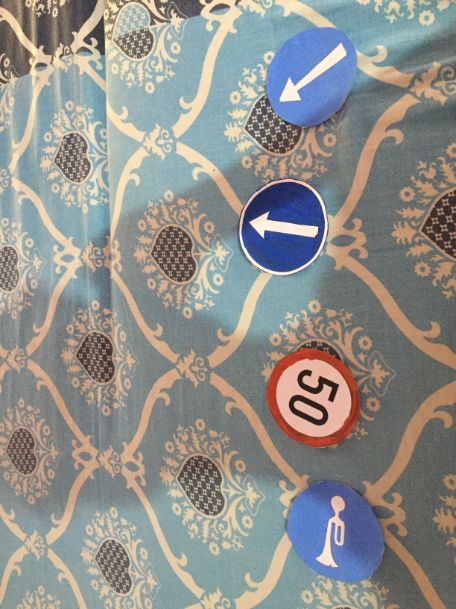blow-horn: (284, 480, 385, 581)
go-stright: (235, 180, 334, 279)
keep-left: (265, 28, 359, 122)
speed-50: (269, 349, 359, 439)
